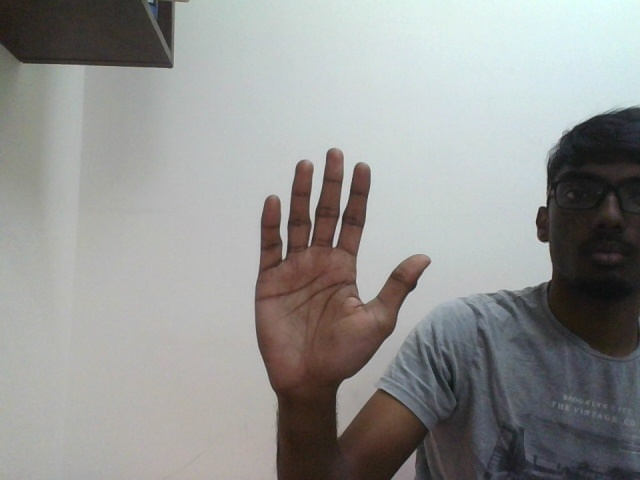Hello: (257, 144, 432, 377)
